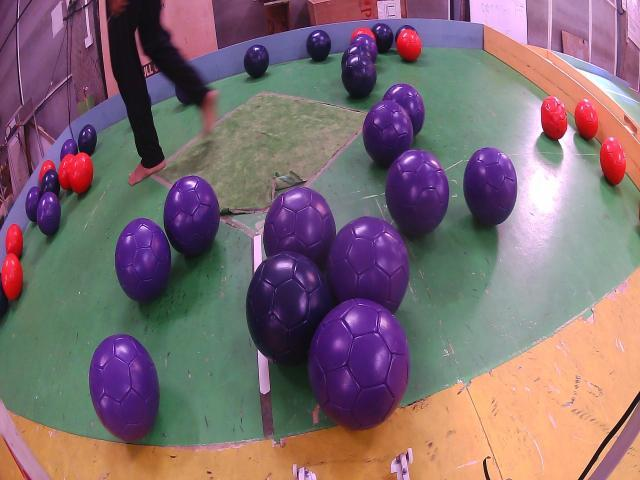jambhalya: (308, 298, 410, 430), (328, 217, 410, 313), (89, 335, 160, 442), (264, 187, 336, 268), (385, 150, 449, 237), (115, 218, 171, 302), (164, 175, 220, 257), (464, 147, 518, 225), (362, 100, 414, 167), (382, 83, 425, 136), (36, 192, 61, 235), (351, 33, 378, 63), (25, 187, 41, 222), (60, 138, 78, 160)
kaalyya: (246, 252, 332, 365), (341, 53, 376, 98), (244, 45, 269, 78), (306, 30, 331, 62), (371, 23, 394, 53), (341, 45, 371, 66), (78, 125, 98, 155), (40, 168, 60, 197), (0, 275, 9, 318), (395, 25, 416, 41)
